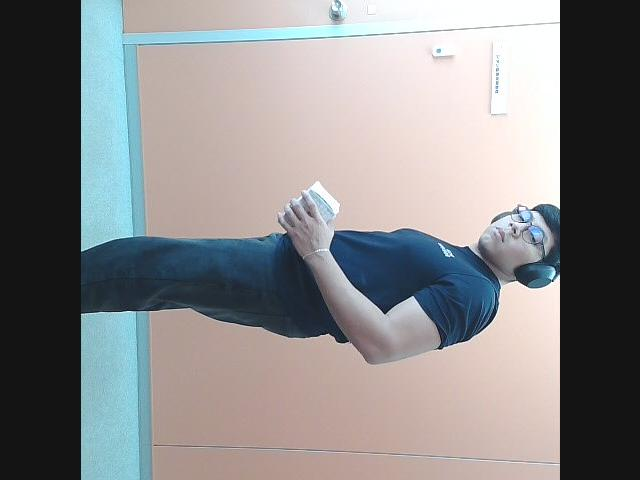Blind_box: (280, 182, 345, 236)
